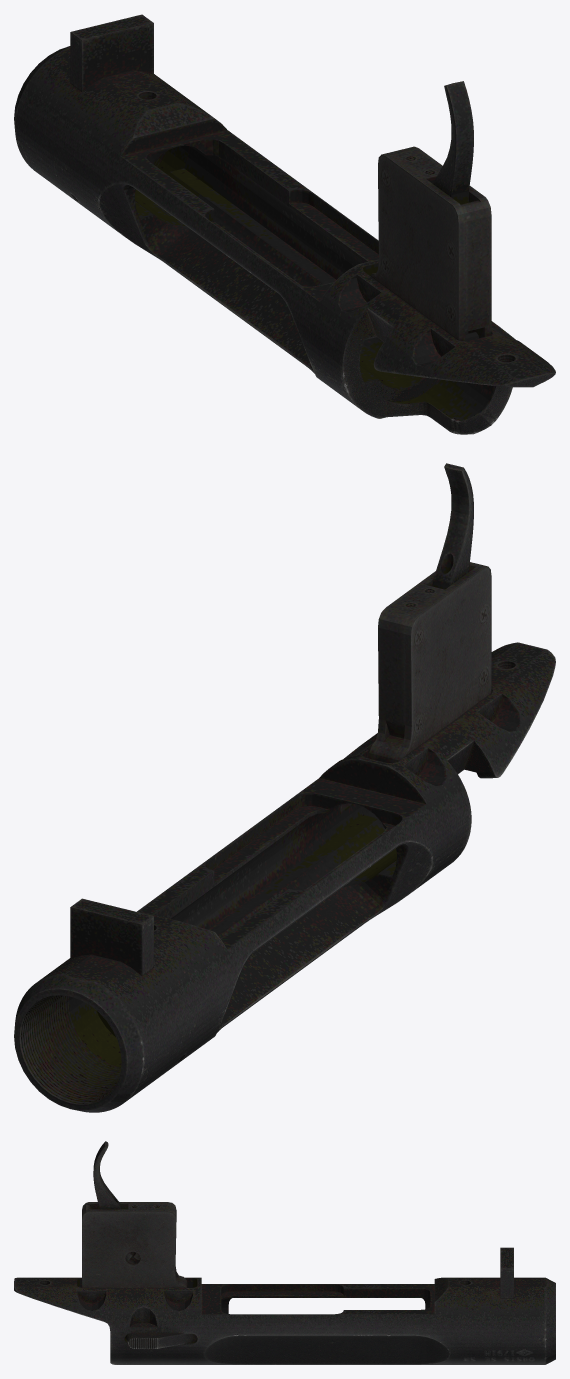
The picture shows the model from 3 angles, top to bottom: view 1: azimuth 30°, elevation 25°; view 2: azimuth 150°, elevation 25°; view 3: azimuth 270°, elevation 25°; orthographic projection. The views are drawn at different scales.
Parts seen in each view (by area): view 1: TW_5df24cf80dee1b22f862e9bc_PZ_Import; view 2: TW_5df24cf80dee1b22f862e9bc_PZ_Import; view 3: TW_5df24cf80dee1b22f862e9bc_PZ_Import.
Boxes of the visible parts, bbox=[...] form: TW_5df24cf80dee1b22f862e9bc_PZ_Import: bbox=[14, 14, 555, 434]; TW_5df24cf80dee1b22f862e9bc_PZ_Import: bbox=[14, 463, 555, 1112]; TW_5df24cf80dee1b22f862e9bc_PZ_Import: bbox=[14, 1141, 555, 1364].
Size of the model in its own units: 0.0232 by 0.1283 by 0.0568.
Materials: 1 (1 with a texture image).
